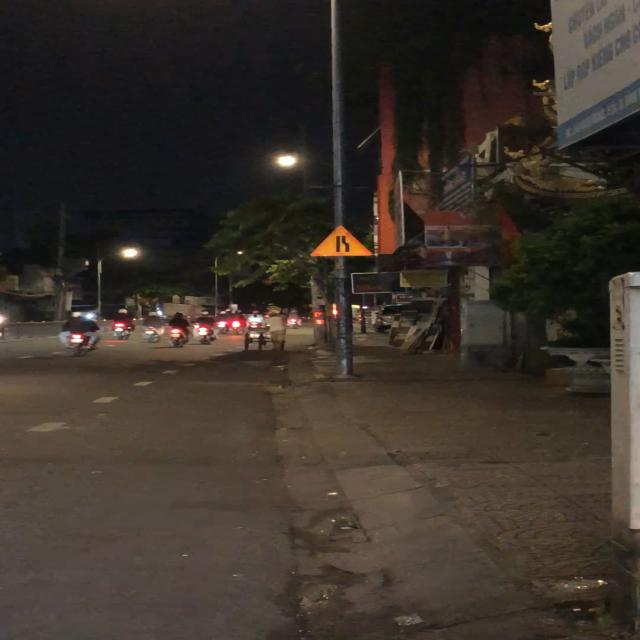Bien bao duong bi thu hep: (307, 223, 378, 258)
